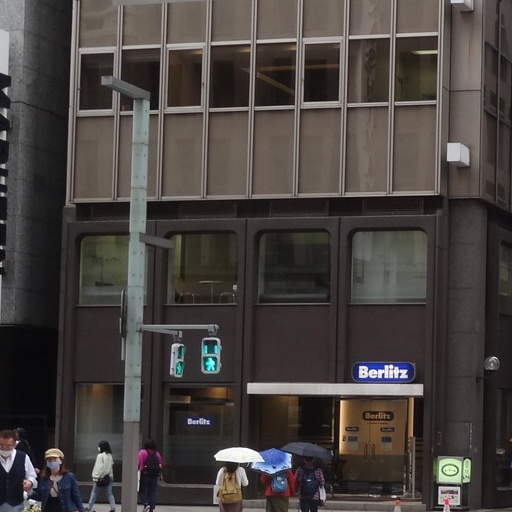Pedestrian_Signal_Blue: (162, 335, 190, 382), (199, 329, 223, 377)
